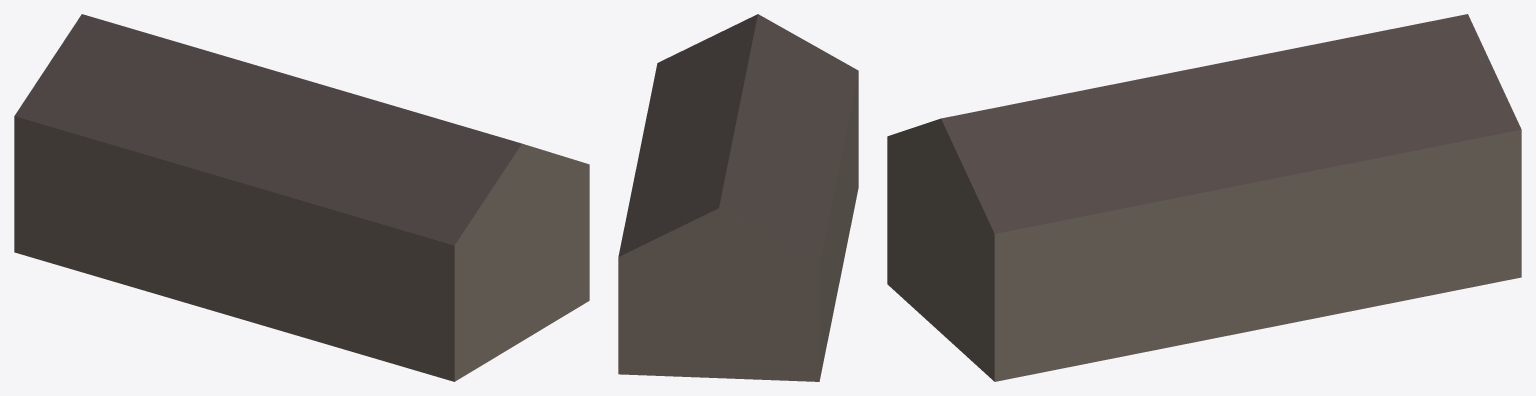
3 renders of one model, left to right at view 1: azimuth 30°, elevation 25°; view 2: azimuth 150°, elevation 25°; view 3: azimuth 270°, elevation 25°, orthographic. The views are drawn at different scales.
Parts seen in each view (by area): view 1: HP-w369342562; view 2: HP-w369342562; view 3: HP-w369342562.
Part boxes in pixels (x1,y1,x2,y2): HP-w369342562: (14, 14, 589, 381); HP-w369342562: (618, 14, 858, 381); HP-w369342562: (887, 14, 1521, 381).
Bounding box in the file's own units: 17.59 × 8.71 × 23.32.
